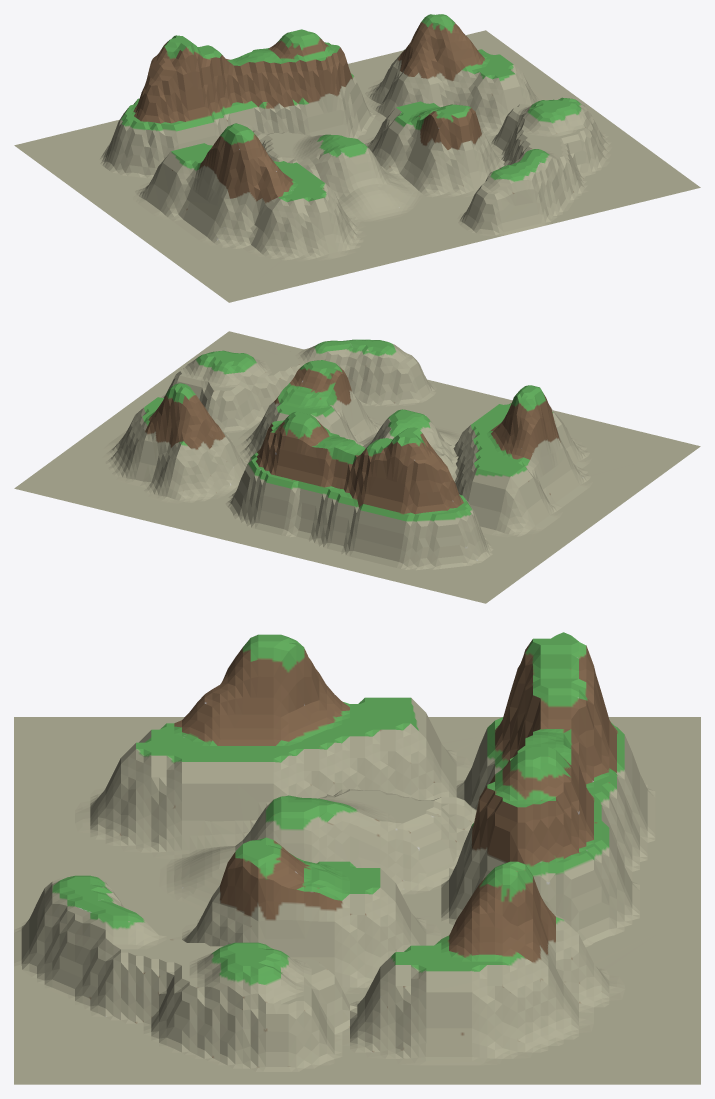
Rendered from Island3.fbx.
3 views of the same model, one above another, from view 1: azimuth 30°, elevation 25°; view 2: azimuth 150°, elevation 25°; view 3: azimuth 270°, elevation 25° (orthographic). The views are drawn at different scales.
Parts seen in each view (by area): view 1: Island3; view 2: Island3; view 3: Island3.
Part boxes in pixels (box(x1,y1,x2,y2)): Island3: box(14, 14, 700, 302); Island3: box(14, 331, 700, 603); Island3: box(14, 632, 700, 1084).
Bounding box in the file's own units: 44863 × 9783 × 35418.
